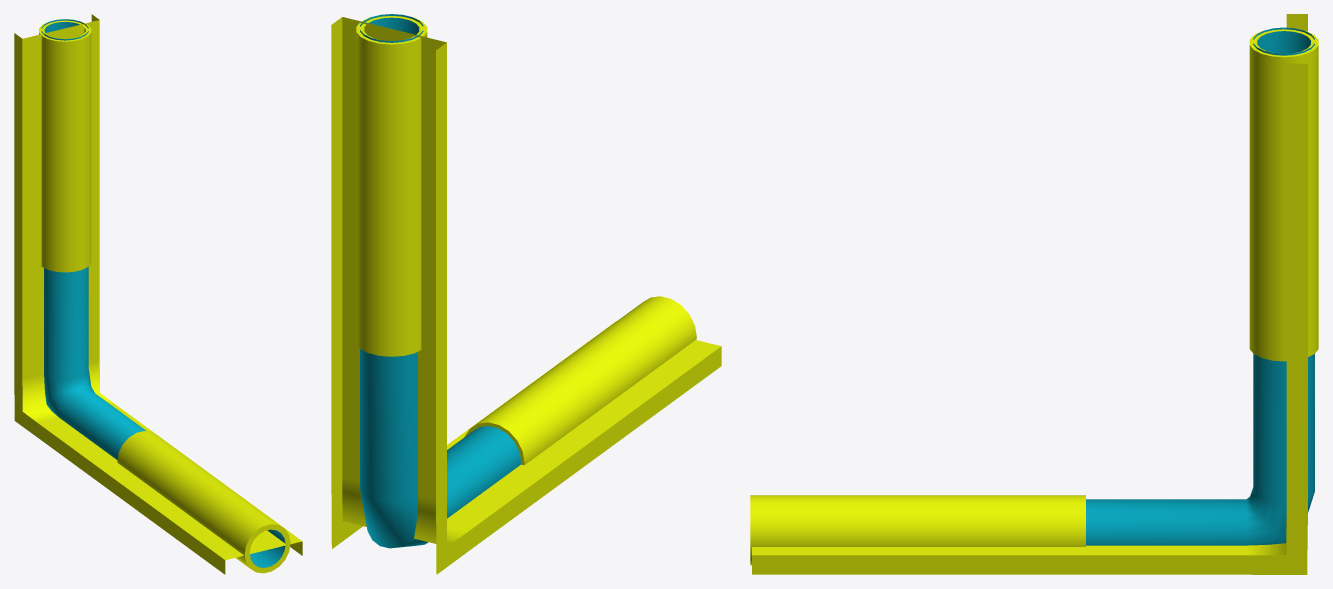
The model's file is env_st_energie_courbe_mur.fbx.
The picture shows the model from 3 angles, left to right: view 1: azimuth 30°, elevation 25°; view 2: azimuth 150°, elevation 25°; view 3: azimuth 270°, elevation 25°; orthographic projection. The views are drawn at different scales.
Parts seen in each view (by area): view 1: Energie Courbé Mur; view 2: Energie Courbé Mur; view 3: Energie Courbé Mur.
Boxes of the visible parts, x1,y1,x2,y2 form: Energie Courbé Mur: (14, 14, 302, 574); Energie Courbé Mur: (331, 14, 721, 574); Energie Courbé Mur: (750, 14, 1318, 574).
Size of the model in its own units: 18.32 by 89.45 by 88.46.
